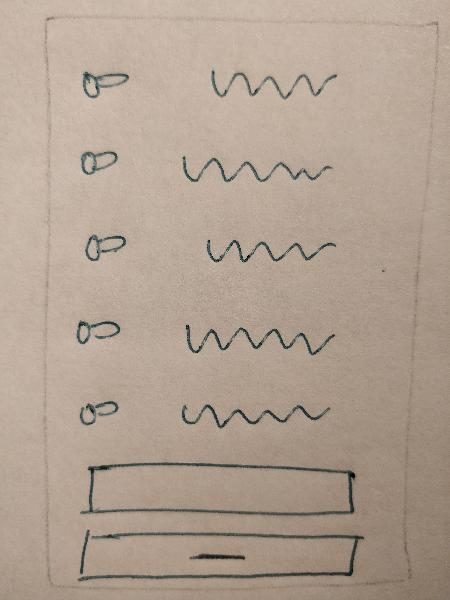button: (74, 524, 367, 588)
switch: (63, 389, 131, 434), (71, 64, 143, 103), (69, 305, 127, 352), (74, 226, 134, 267), (74, 139, 128, 181)
text: (175, 313, 339, 370), (192, 58, 344, 108), (171, 395, 334, 438), (174, 147, 340, 189), (196, 228, 343, 270)
text_input: (74, 456, 364, 519)
